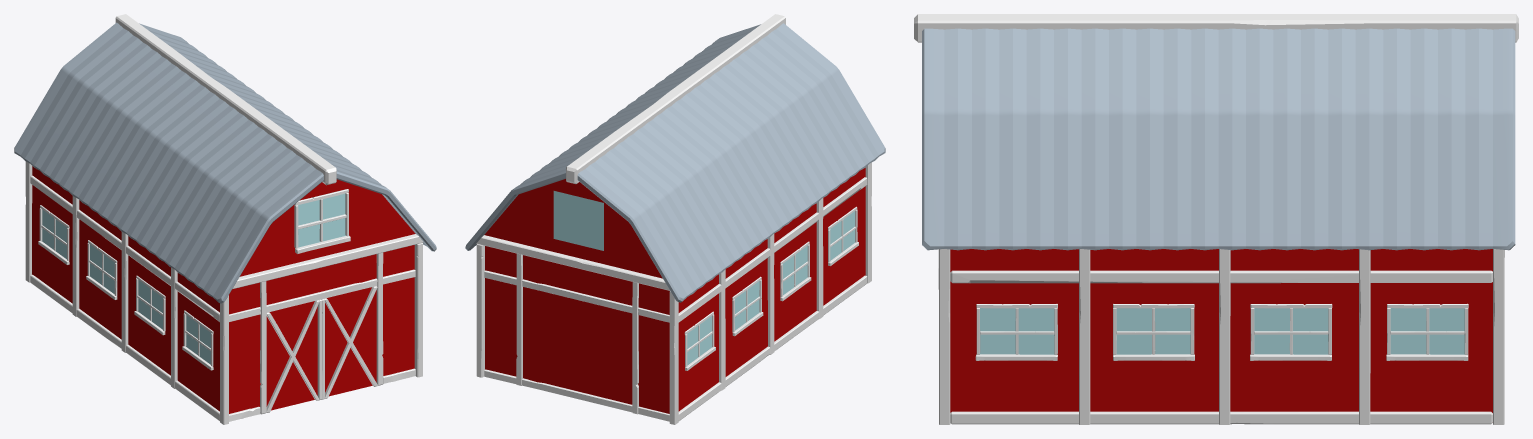
Rendered from barn.glb.
The picture shows the model from 3 angles, left to right: view 1: azimuth 30°, elevation 25°; view 2: azimuth 150°, elevation 25°; view 3: azimuth 270°, elevation 25°; orthographic projection. The views are drawn at different scales.
Visible parts, largest first — view 1: barnSmall; view 2: barnSmall; view 3: barnSmall.
Part boxes in pixels (box(x1,y1,x2,y2)): barnSmall: box(14, 14, 436, 424); barnSmall: box(465, 14, 885, 424); barnSmall: box(914, 14, 1518, 424).
Bounding box in the file's own units: 13.9 × 14.43 × 23.37.
